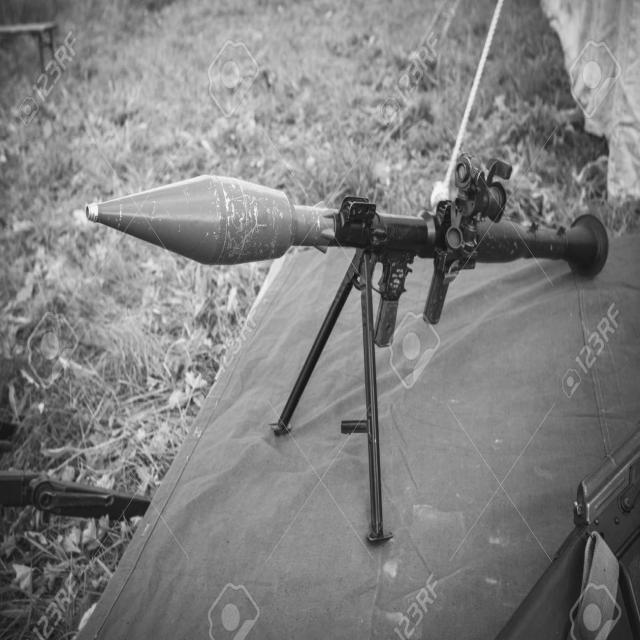Lancher: (90, 128, 622, 338)
